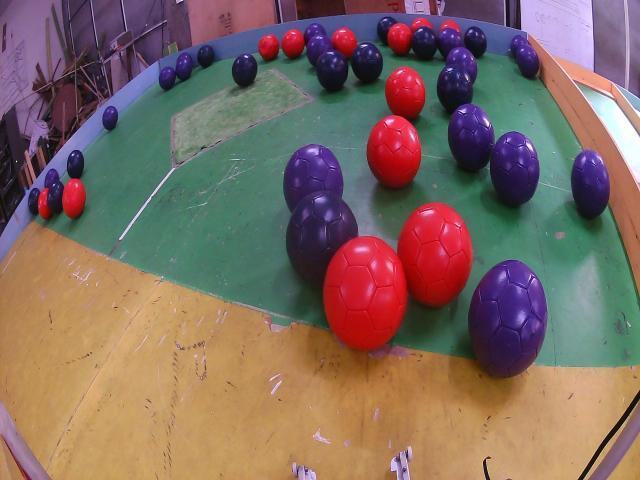jambhalya: (468, 260, 548, 378), (284, 143, 344, 212), (490, 132, 540, 207), (448, 103, 495, 172), (571, 150, 610, 218), (446, 47, 478, 83), (306, 33, 334, 66), (516, 45, 540, 78), (438, 27, 462, 58), (304, 23, 326, 44), (510, 33, 528, 58), (102, 105, 118, 130), (159, 67, 176, 90), (176, 58, 192, 79), (44, 168, 60, 188), (178, 53, 192, 62)
kaalyya: (286, 192, 358, 287), (436, 63, 472, 113), (316, 50, 349, 92), (351, 42, 382, 83), (231, 53, 258, 87), (411, 27, 438, 60), (464, 27, 488, 58), (378, 17, 398, 45), (48, 180, 64, 214), (66, 150, 85, 178), (198, 45, 214, 68), (28, 188, 40, 215)
